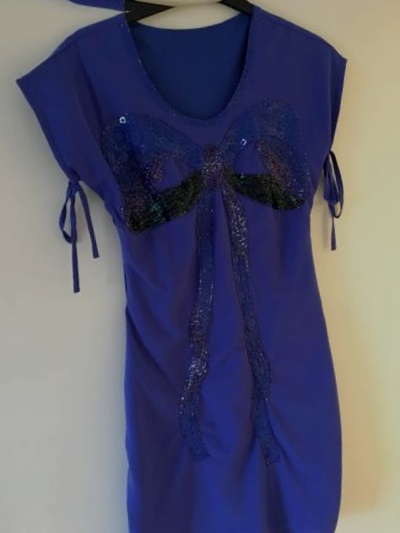Dress: (25, 0, 400, 533), (0, 0, 361, 17)
